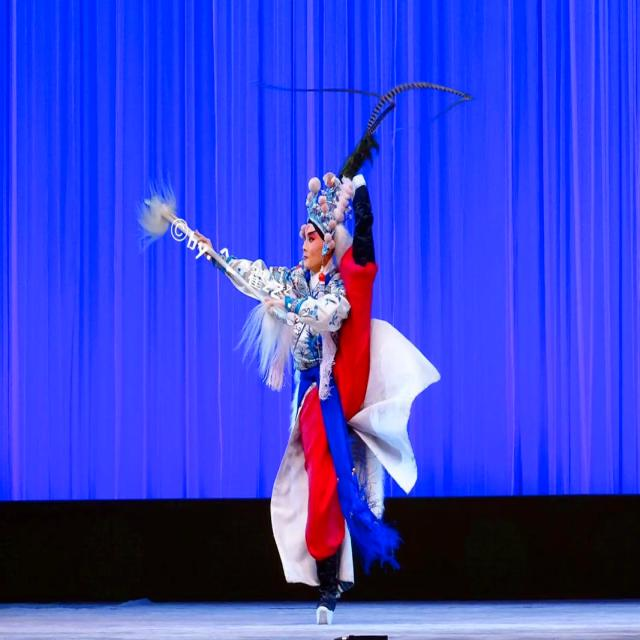Reeves-s Pheasant: (366, 83, 473, 134)
